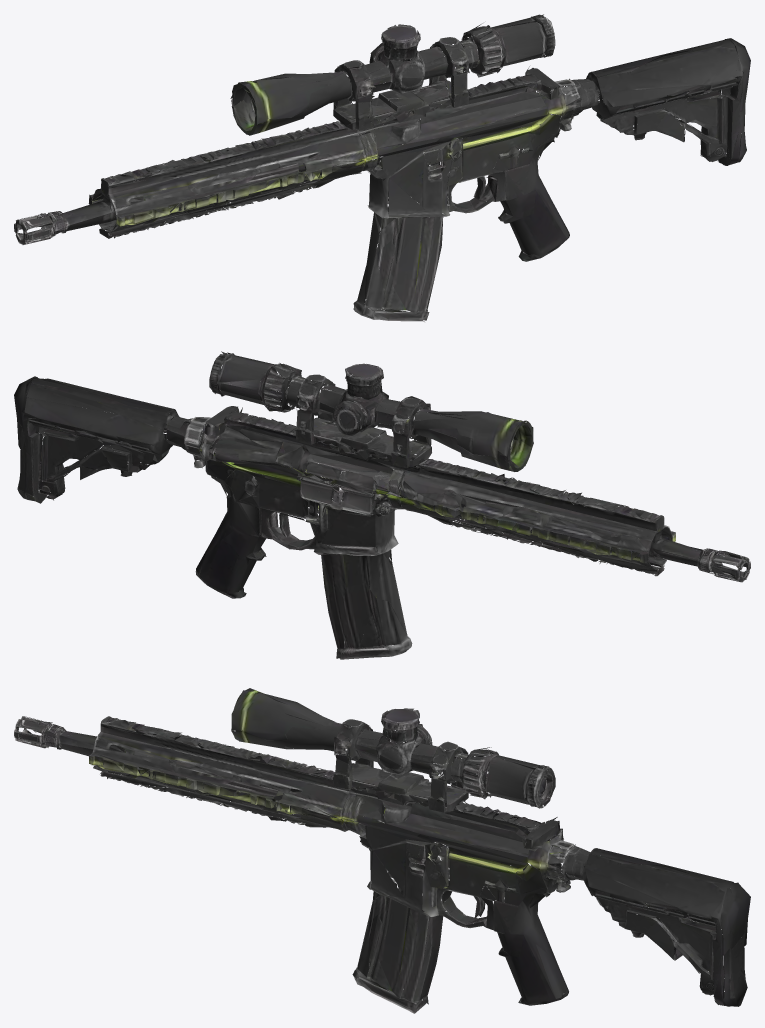
Rendered from gun_dmr_lo.glb.
3 views of the same model, one above another, from view 1: azimuth 30°, elevation 25°; view 2: azimuth 150°, elevation 25°; view 3: azimuth 330°, elevation 25° (orthographic).
Visible parts, largest first — view 1: Mesh_0; view 2: Mesh_0; view 3: Mesh_0.
Part boxes in pixels (box(x1,y1,x2,y2)): Mesh_0: box(14, 14, 750, 321); Mesh_0: box(14, 351, 750, 659); Mesh_0: box(14, 688, 750, 1013).
Bounding box in the file's own units: 1.9 × 0.7278 × 0.1828.
1 material, 1 textured.
